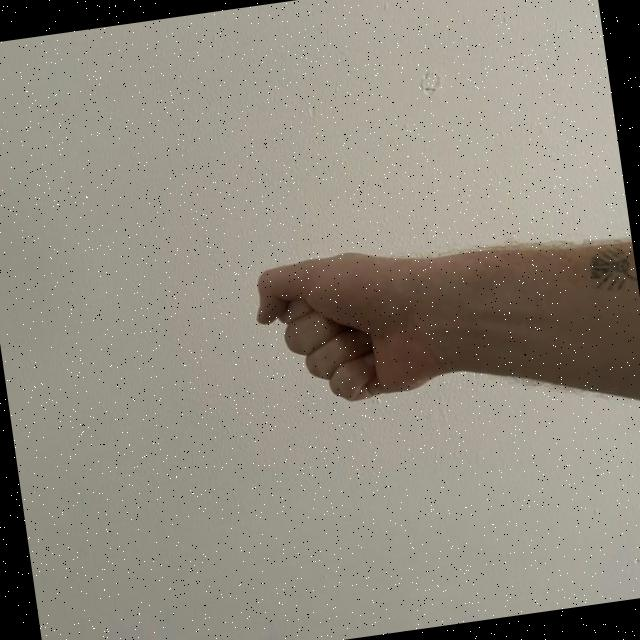rock: (243, 235, 467, 420)
